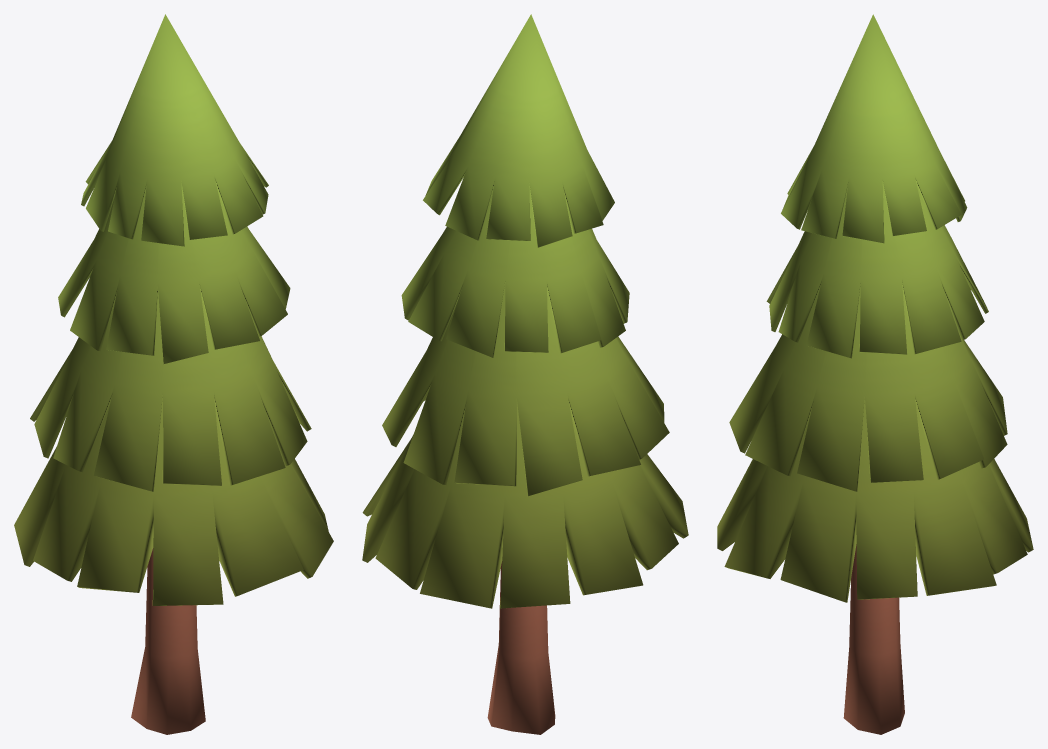
The model's file is treePine.fbx.
3 renders of one model, left to right at view 1: azimuth 30°, elevation 25°; view 2: azimuth 150°, elevation 25°; view 3: azimuth 270°, elevation 25°, orthographic.
Parts seen in each view (by area): view 1: Tree2.002; view 2: Tree2.002; view 3: Tree2.002.
Part boxes in pixels (x1,y1,x2,y2): Tree2.002: (14,14,333,734); Tree2.002: (362,14,688,734); Tree2.002: (717,14,1033,734).
Size of the model in its own units: 10087 by 25099 by 10253.
